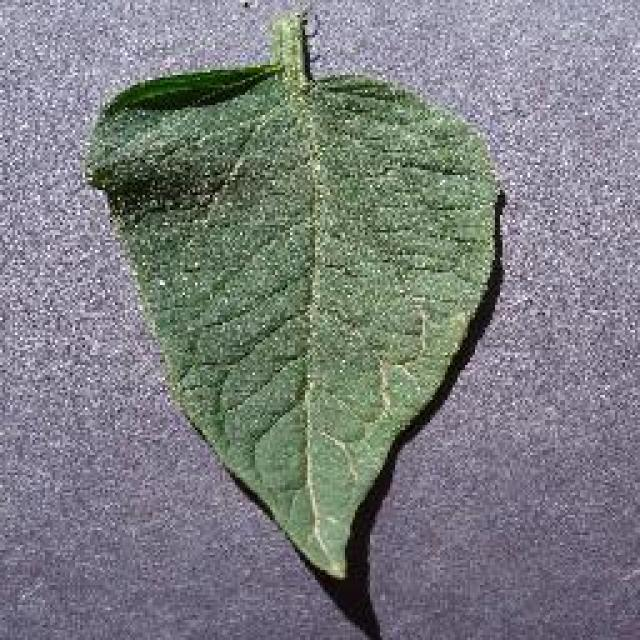Tomato___healthy: (80, 11, 503, 581)
